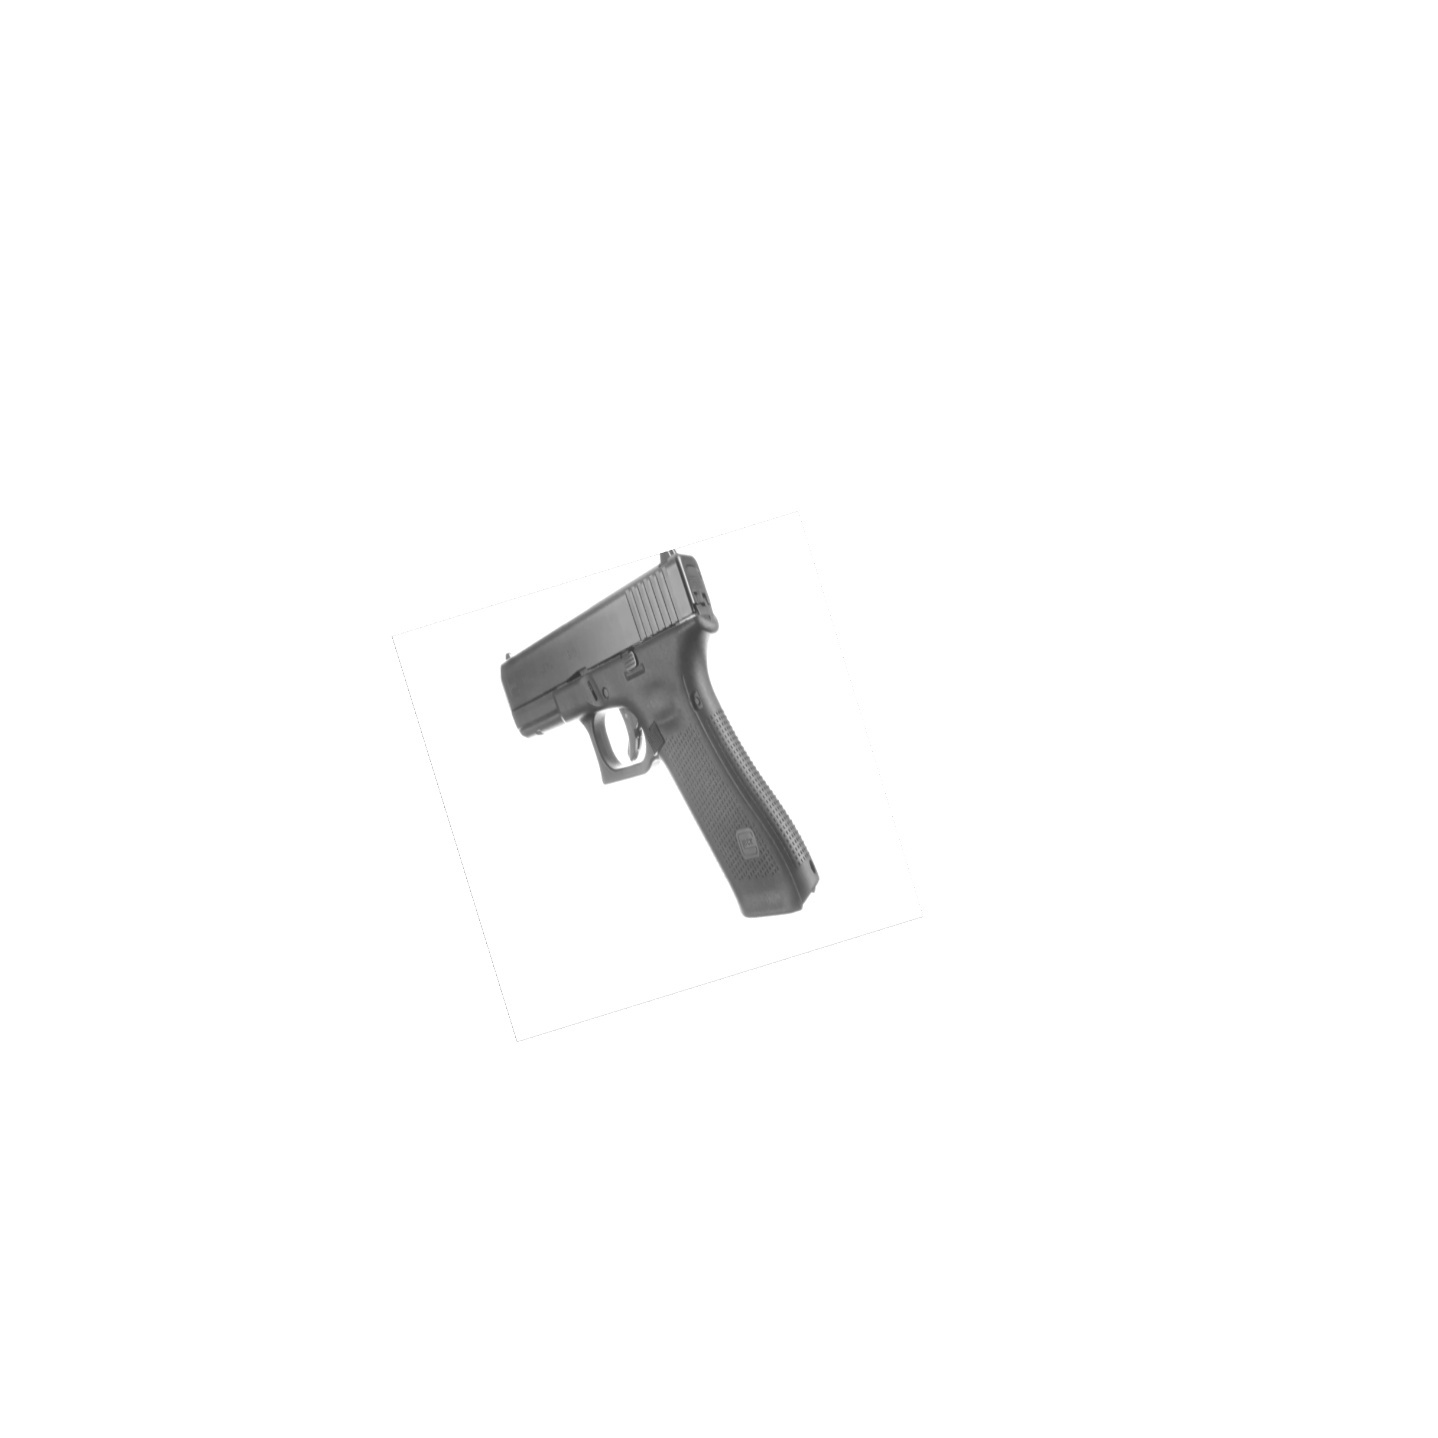gun: (489, 540, 838, 934)
